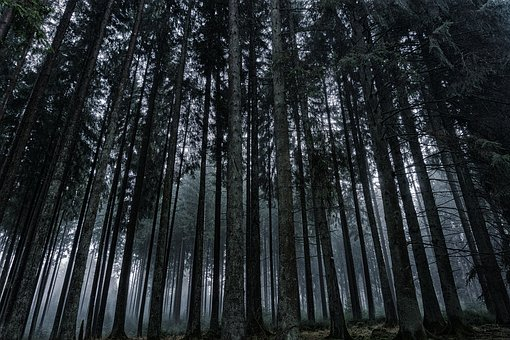forest: (6, 8, 510, 337)
tree: (179, 1, 346, 340), (342, 1, 509, 340), (30, 19, 175, 335)
